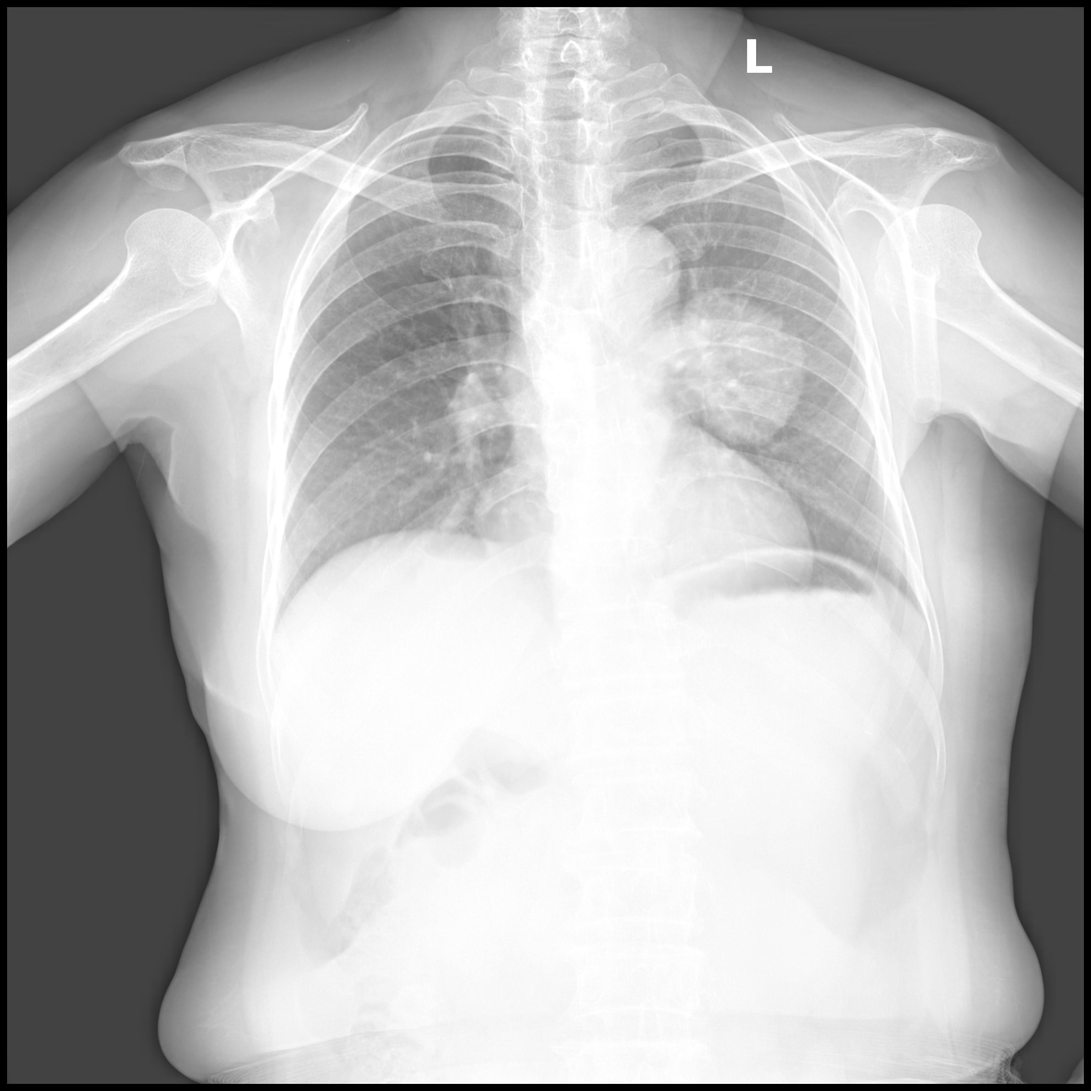Aortic enlargement: (577, 223, 683, 317)
Cardiomegaly: (472, 483, 818, 588)
